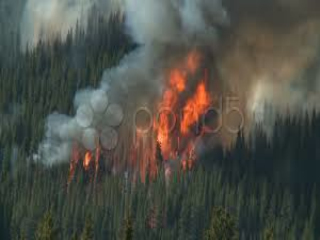fire: (148, 58, 213, 162)
smoke: (33, 38, 152, 156)
